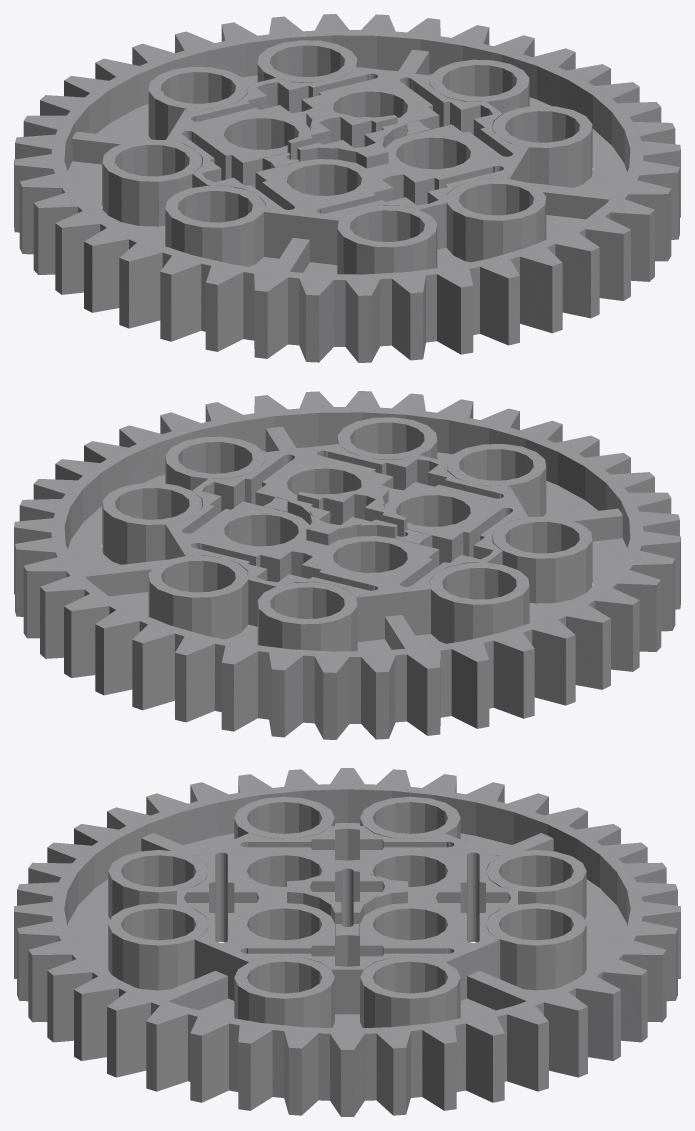
Rendered from gear_wheel_T40.dae.
3 views of the same model, one above another, from view 1: azimuth 30°, elevation 25°; view 2: azimuth 150°, elevation 25°; view 3: azimuth 270°, elevation 25° (orthographic).
Parts seen in each view (by area): view 1: node; view 2: node; view 3: node.
Part boxes in pixels (bbox=[...]): node: bbox=[14, 14, 680, 362]; node: bbox=[14, 391, 680, 739]; node: bbox=[14, 768, 680, 1116].
Size of the model in its own units: 105 by 19.5 by 105.
Materials: 1 (1 with a texture image).
